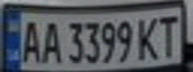3: (63, 18, 84, 65), (81, 18, 100, 64)
9: (115, 16, 139, 63), (100, 17, 118, 64)
A: (15, 17, 45, 64), (39, 17, 63, 64)
K: (136, 14, 163, 61)
T: (154, 11, 184, 58)
